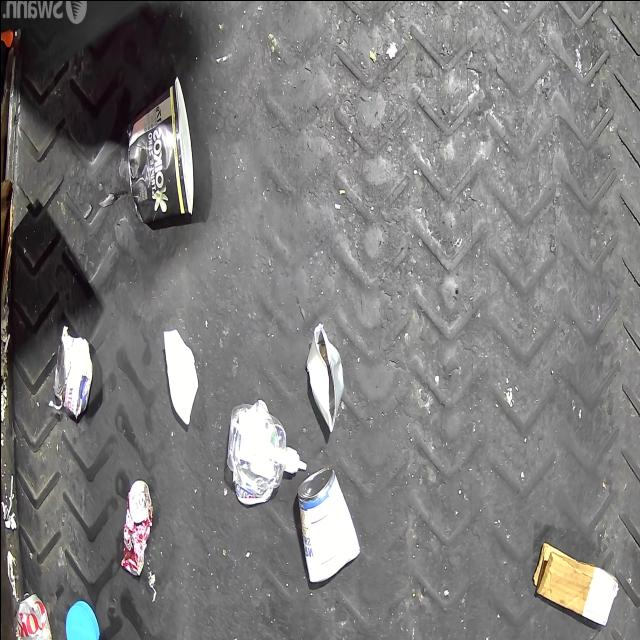can: (296, 464, 362, 584), (306, 322, 344, 432), (119, 480, 153, 578), (54, 334, 92, 417), (12, 591, 53, 640)
